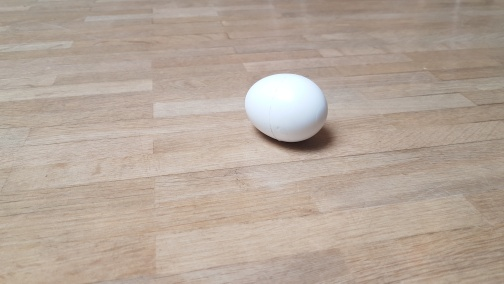egg: (243, 72, 329, 144)
